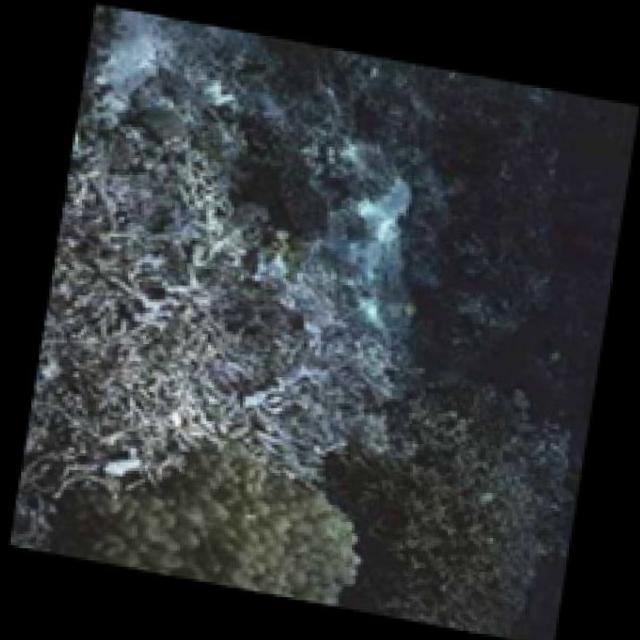Dead Coral: (59, 54, 360, 422), (85, 428, 365, 613)
